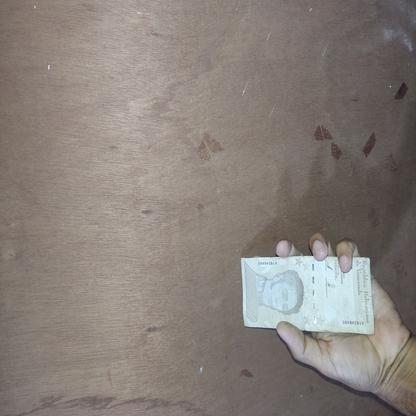five-front-vef: (241, 256, 375, 336)
